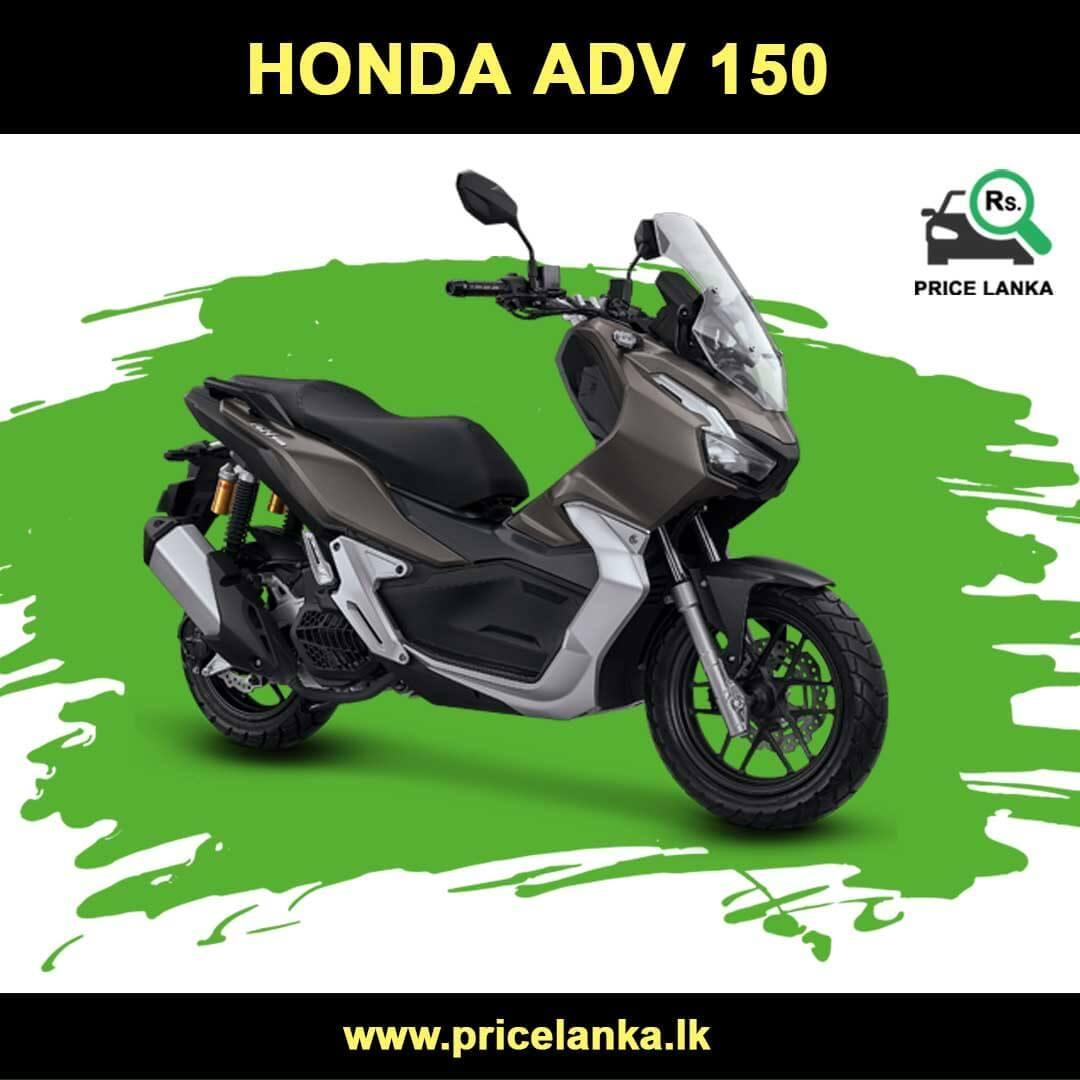motorbike: (143, 169, 887, 831)
